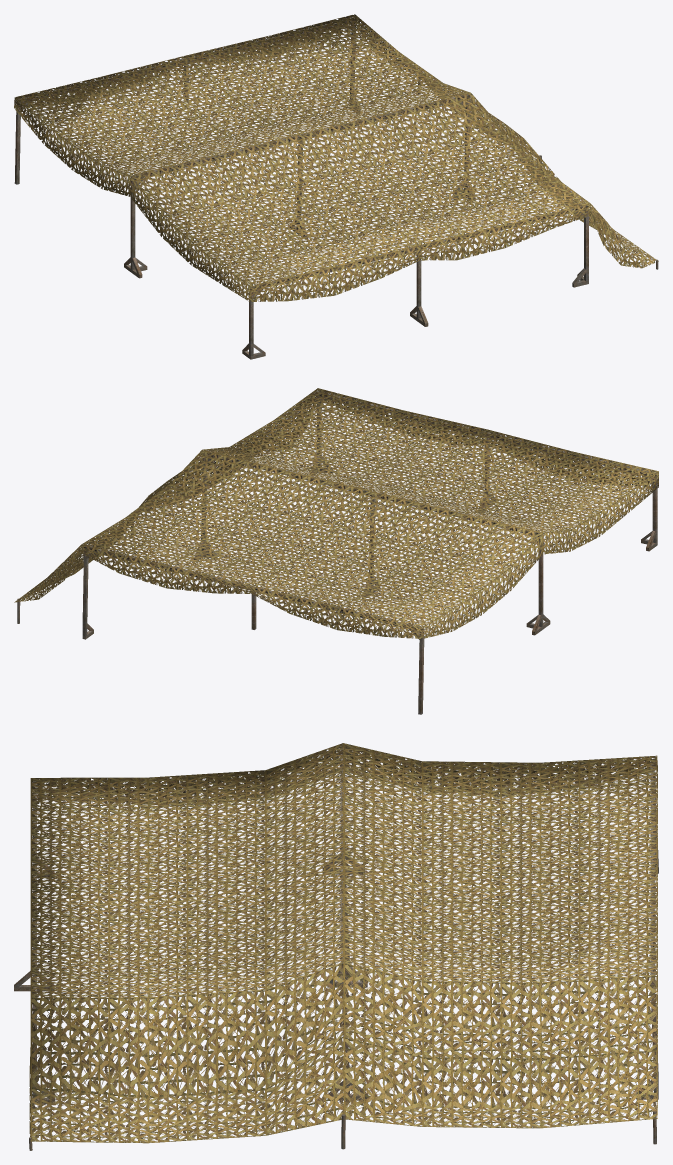
Rendered from Mission8_CammoNet.glb.
3 renders of one model, top to bottom at view 1: azimuth 30°, elevation 25°; view 2: azimuth 150°, elevation 25°; view 3: azimuth 270°, elevation 25°, orthographic. The views are drawn at different scales.
Parts seen in each view (by area): view 1: MISSION8_CAMMONET; view 2: MISSION8_CAMMONET; view 3: MISSION8_CAMMONET.
Boxes of the visible parts, box(x1,y1,x2,y2) form: MISSION8_CAMMONET: box(14, 14, 658, 359); MISSION8_CAMMONET: box(14, 388, 658, 714); MISSION8_CAMMONET: box(14, 743, 658, 1150).
Size of the model in its own units: 24.18 by 6.01 by 24.71.
Materials: 2 (2 with a texture image).
